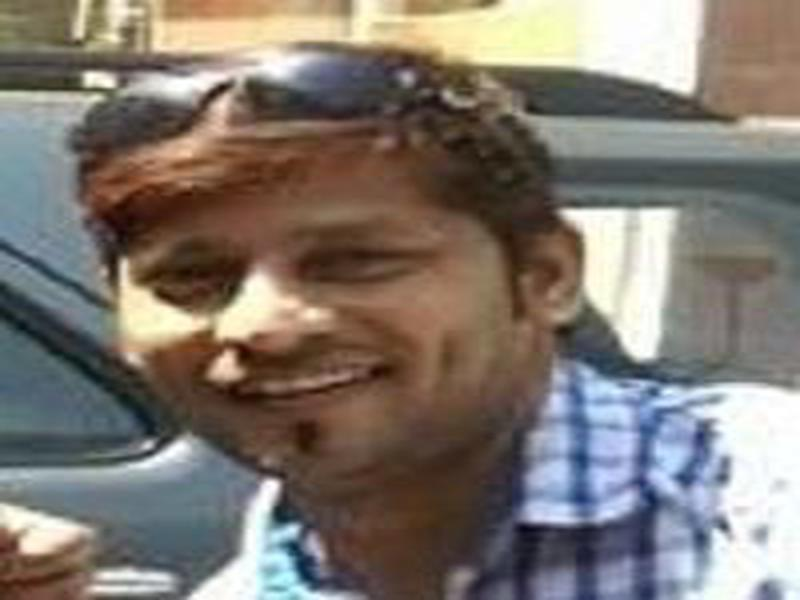without_mask: (114, 191, 499, 495)
